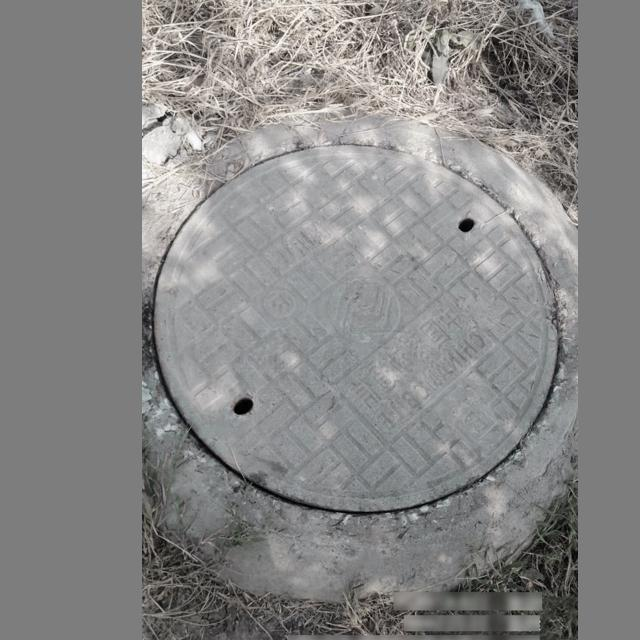good: (142, 117, 578, 538)
